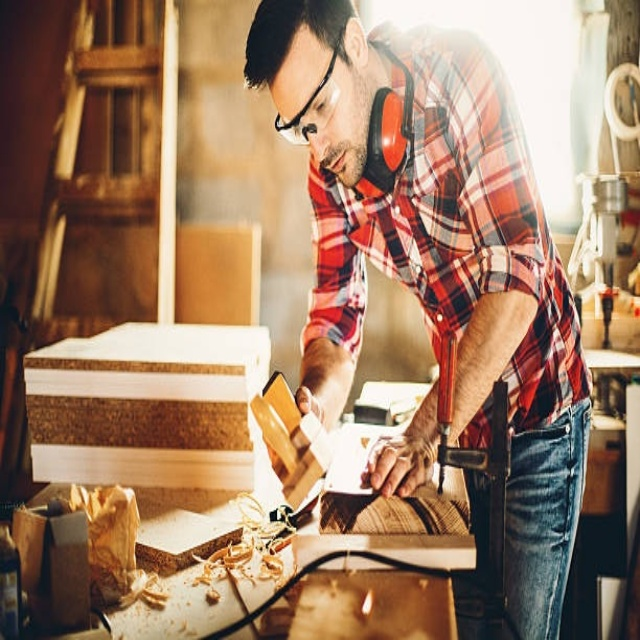Gafas: (274, 41, 341, 146)
Sin_guantes: (364, 422, 439, 497)
Sin_mascara: (317, 130, 362, 194)
